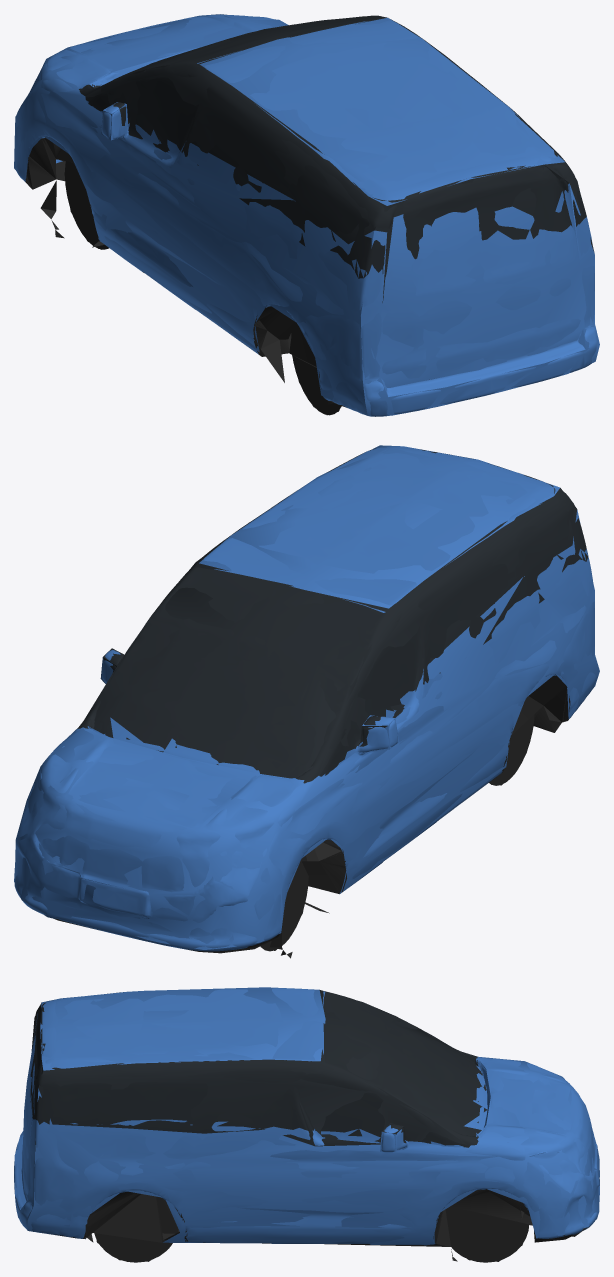
File: ford-transit-connect.glb
3 renders of one model, top to bottom at view 1: azimuth 30°, elevation 25°; view 2: azimuth 150°, elevation 25°; view 3: azimuth 270°, elevation 25°, orthographic. The views are drawn at different scales.
Visible parts, largest first — view 1: body, far; view 2: body, far; view 3: body, far.
Boxes of the visible parts, left/top/right/bottom form: body: left=15, top=14, right=597, bottom=416; far: left=14, top=14, right=599, bottom=415; body: left=14, top=446, right=597, bottom=958; far: left=14, top=445, right=599, bottom=955; body: left=14, top=988, right=599, bottom=1262; far: left=14, top=987, right=599, bottom=1261.
Size of the model in its own units: 2.12 by 1.85 by 4.79.
